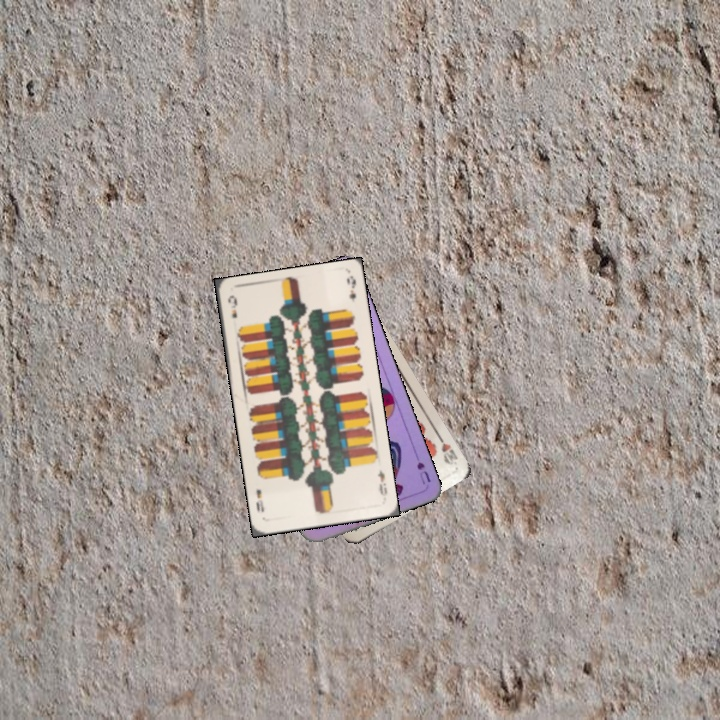E9: (373, 465, 390, 499), (224, 291, 240, 321)
H10: (433, 430, 461, 467)
SU: (413, 458, 433, 487)
